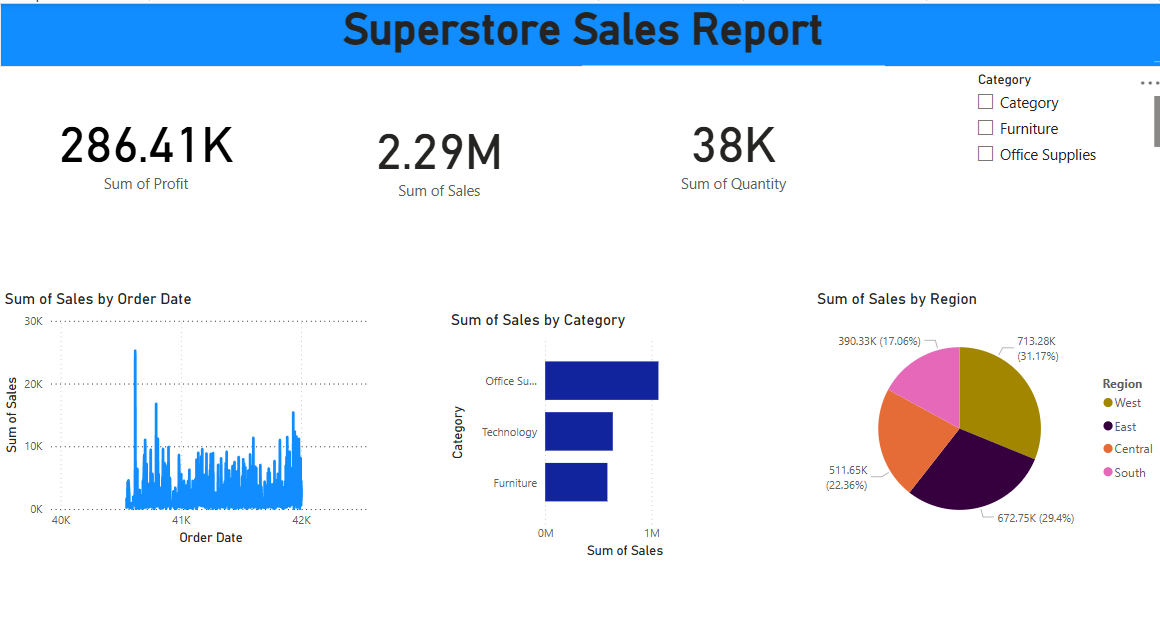

What the dashboard file says about the page in this screenshot:
{"tool":"powerbi","page":{"name":"Page 1","canvas":[1280,720],"ordinal":0},"visuals":[{"type":"card","fields":{"Values":["Sum(Orders.Sales)"]},"box":[258,70,253.9,179.8],"z":0},{"type":"card","fields":{"Values":["Sum(Orders.Profit)"]},"box":[0,68.6,321.1,181.1],"z":1},{"type":"card","fields":{"Values":["Sum(Orders.Quantity)"]},"box":[295,83.7,279.9,150.9],"z":2},{"type":"clusteredBarChart","fields":{"Category":["Orders.Category"],"Y":["Sum(Orders.Sales)"]},"box":[489.9,337.6,297.8,277.2],"z":3},{"type":"lineChart","fields":{"Category":["Orders.Order Date"],"Y":["Sum(Orders.Sales)"]},"box":[0,314.2,411.7,285.4],"z":4},{"type":"pieChart","fields":{"Category":["Orders.Region"],"Y":["Sum(Orders.Sales)"]},"box":[891.9,314.2,388.3,285.4],"z":5},{"type":"slicer","fields":{"Values":["Orders.Category"]},"box":[1060.7,70,219.6,115.3],"z":6},{"type":"textbox","box":[321,32,254,181],"z":8},{"type":"textbox","title":"Superstore Sales Report","box":[0,0,1280.3,70],"z":10},{"type":"card","fields":{"Values":["Sum(Orders.Quantity)"]},"box":[639.5,68.6,332.1,181.1],"z":11},{"type":"card","fields":{"Values":["Sum(Orders.Sales)"]},"box":[295,83.7,374.6,166],"z":12}]}

Visuals, with their boxes on the page's 1280x720 design canvas (x1, y1, x2, y2). These are canvas units, not pixel positions in the 1160x623 screenshot, which may show the page scaled, cropped or inside an application window:
card - Sum(Orders.Sales): bbox=[258, 70, 512, 250]
card - Sum(Orders.Profit): bbox=[0, 69, 321, 250]
card - Sum(Orders.Quantity): bbox=[295, 84, 575, 235]
clusteredBarChart - Orders.Category x Sum(Orders.Sales): bbox=[490, 338, 788, 615]
lineChart - Orders.Order Date x Sum(Orders.Sales): bbox=[0, 314, 412, 600]
pieChart - Orders.Region x Sum(Orders.Sales): bbox=[892, 314, 1280, 600]
slicer - Orders.Category: bbox=[1061, 70, 1280, 185]
textbox: bbox=[321, 32, 575, 213]
"Superstore Sales Report" textbox: bbox=[0, 0, 1280, 70]
card - Sum(Orders.Quantity): bbox=[640, 69, 972, 250]
card - Sum(Orders.Sales): bbox=[295, 84, 670, 250]
